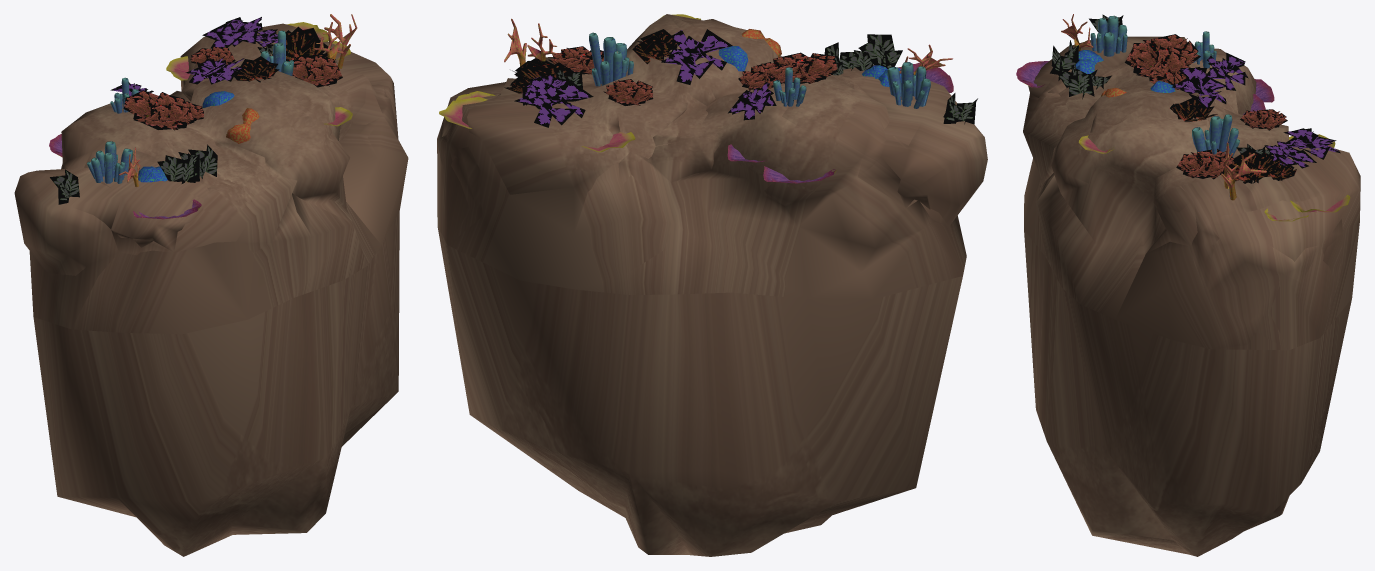
The model's file is objects_un_dlc2_coral01_03.gltf.
3 views of the same model, side by side, from view 1: azimuth 30°, elevation 25°; view 2: azimuth 150°, elevation 25°; view 3: azimuth 270°, elevation 25° (orthographic). The views are drawn at different scales.
Visible parts, largest first — view 1: um_objects_un_dlc2_coral01_03_model_lod0Shape:objects_un_dlc (×3), um_objects_un_dlc2_coral01_03_model_lod2Shape:objects_un_dlc (×2), um_objects_un_dlc2_coral01_03_model_lod1Shape:objects_un_dlc (×3); view 2: um_objects_un_dlc2_coral01_03_model_lod0Shape:objects_un_dlc (×3), um_objects_un_dlc2_coral01_03_model_lod2Shape:objects_un_dlc (×3), um_objects_un_dlc2_coral01_03_model_lod1Shape:objects_un_dlc (×3); view 3: um_objects_un_dlc2_coral01_03_model_lod0Shape:objects_un_dlc (×3), um_objects_un_dlc2_coral01_03_model_lod2Shape:objects_un_dlc (×2), um_objects_un_dlc2_coral01_03_model_lod1Shape:objects_un_dlc (×3).
Part boxes in pixels (x1=…): um_objects_un_dlc2_coral01_03_model_lod0Shape:objects_un_dlc (×3): x1=14, y1=14, x2=408, y2=556; um_objects_un_dlc2_coral01_03_model_lod2Shape:objects_un_dlc (×2): x1=29, y1=26, x2=408, y2=328; um_objects_un_dlc2_coral01_03_model_lod1Shape:objects_un_dlc (×3): x1=33, y1=17, x2=405, y2=328; um_objects_un_dlc2_coral01_03_model_lod0Shape:objects_un_dlc (×3): x1=437, y1=14, x2=987, y2=556; um_objects_un_dlc2_coral01_03_model_lod2Shape:objects_un_dlc (×3): x1=437, y1=14, x2=966, y2=526; um_objects_un_dlc2_coral01_03_model_lod1Shape:objects_un_dlc (×3): x1=439, y1=14, x2=987, y2=274; um_objects_un_dlc2_coral01_03_model_lod0Shape:objects_un_dlc (×3): x1=1016, y1=14, x2=1360, y2=556; um_objects_un_dlc2_coral01_03_model_lod2Shape:objects_un_dlc (×2): x1=1020, y1=26, x2=1359, y2=554; um_objects_un_dlc2_coral01_03_model_lod1Shape:objects_un_dlc (×3): x1=1016, y1=16, x2=1358, y2=348.
Size of what is drawn, in the model's own units: 15.6 by 16.97 by 11.07.
3 materials, 3 textured.
